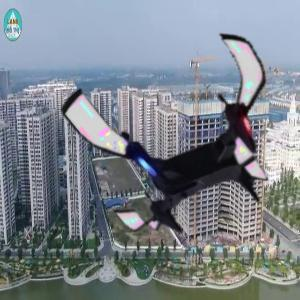drone: (75, 21, 299, 245)
